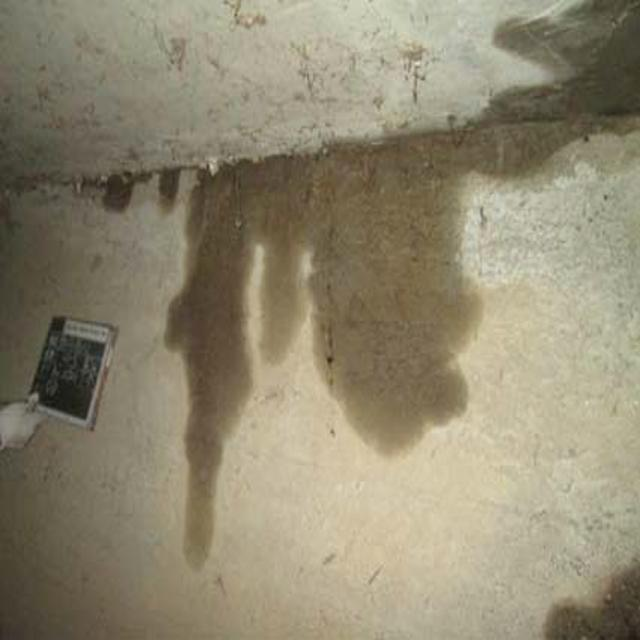leakage: (124, 128, 500, 538), (510, 9, 629, 197)
